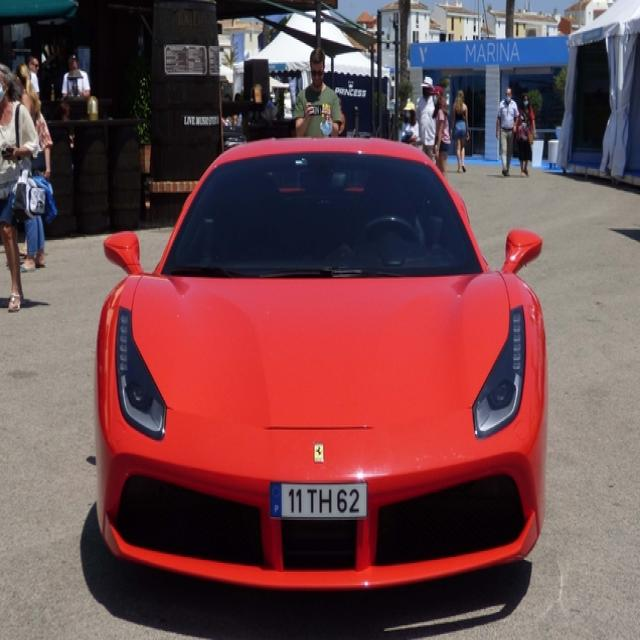portuguese-license-plates: (268, 480, 370, 521)
